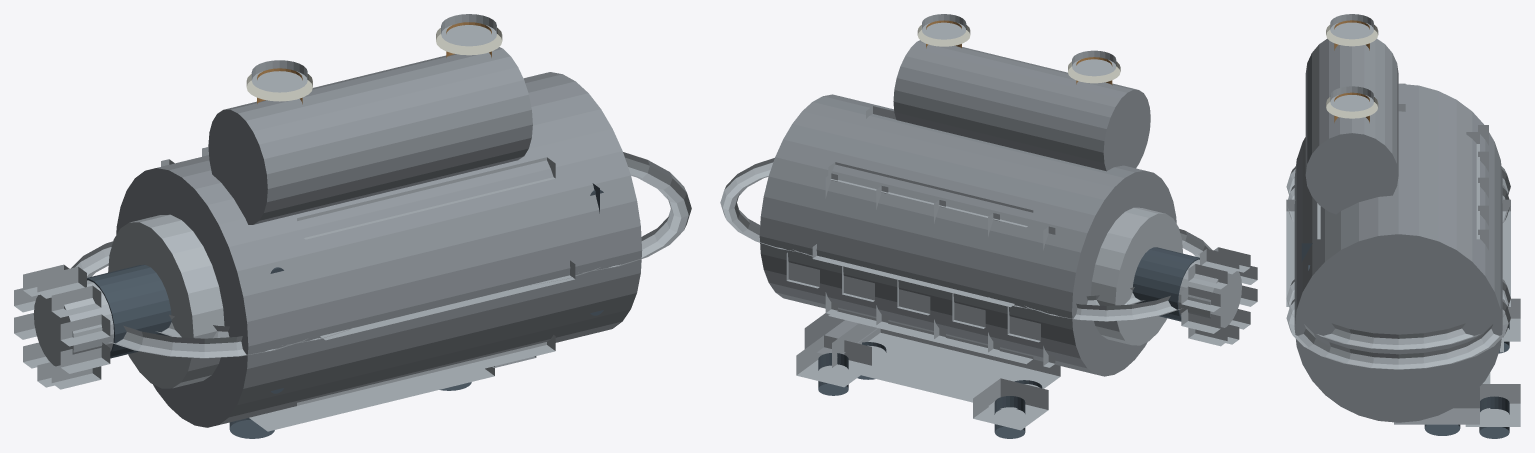
Rendered from starter-motor-detailed-review.glb.
3 renders of one model, left to right at view 1: azimuth 30°, elevation 25°; view 2: azimuth 150°, elevation 25°; view 3: azimuth 270°, elevation 25°, orthographic. The views are drawn at different scales.
Size of the model in its own units: 4.16 by 2.57 by 1.71.
